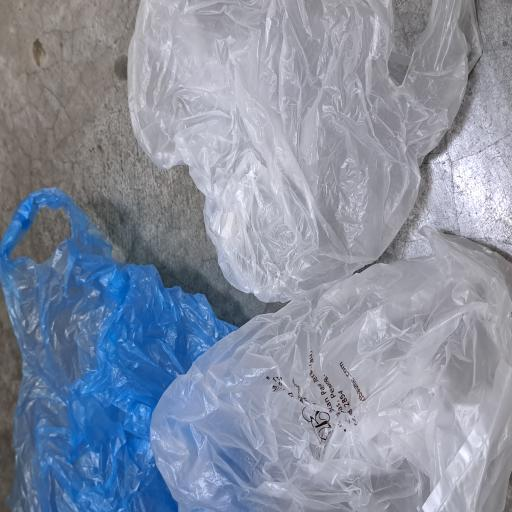plastic bag: (0, 0, 246, 326), (157, 168, 383, 512), (0, 201, 212, 512)
